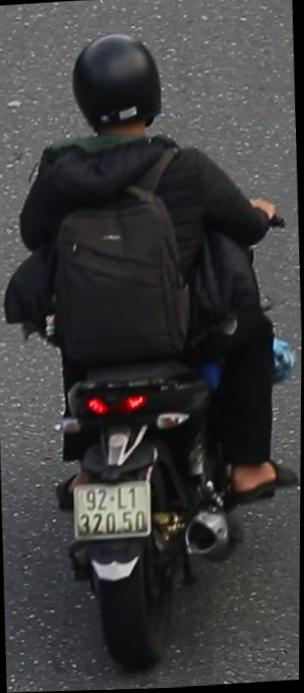LP: (68, 474, 155, 548)
helmet: (66, 28, 170, 160)
